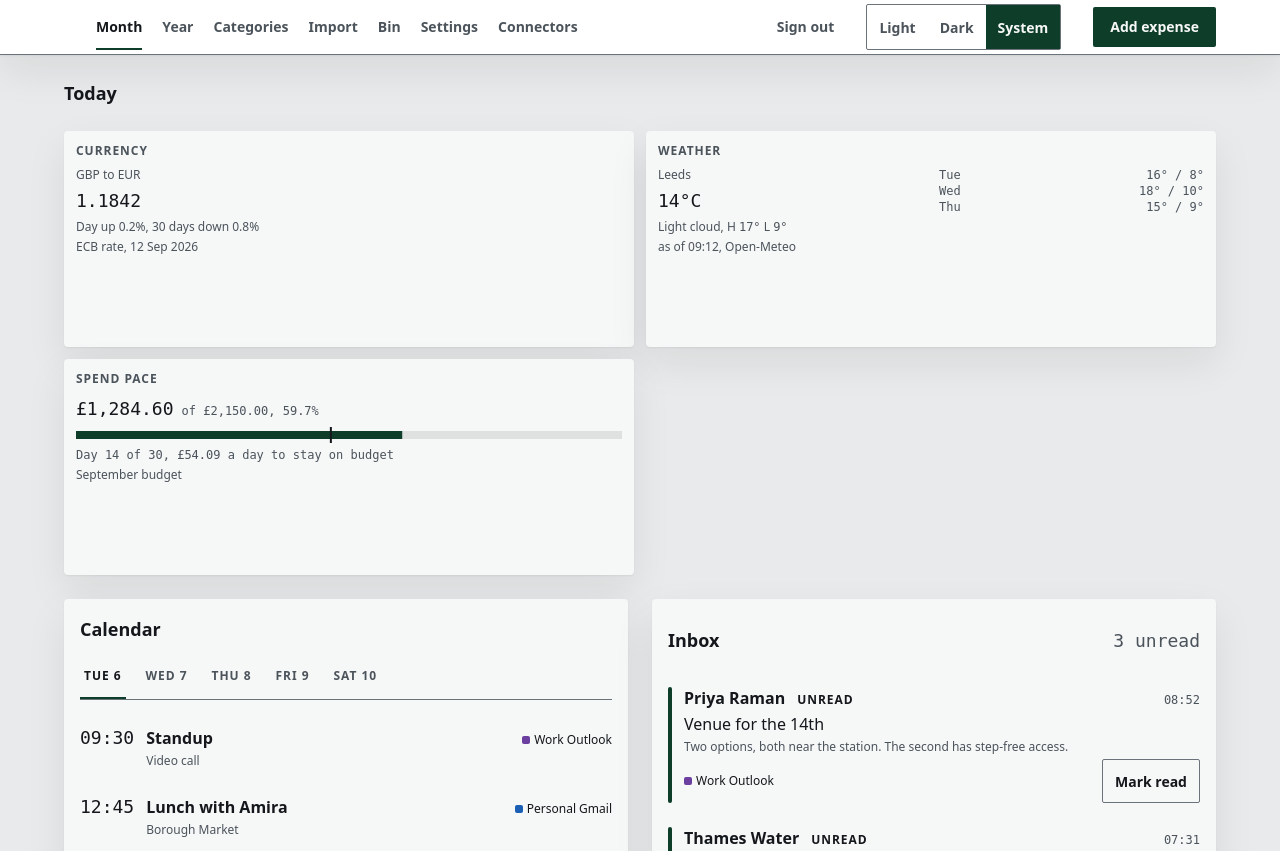
Test: inbox › mark read switches lamp and word, removes the button and flips the count once
Expected: the list item that starts with "Priya Raman" shows "Unread", [797,691,854,708]
Click the button "Mark read" below "08:52" at [1151, 781], box [1102,759,1200,803]
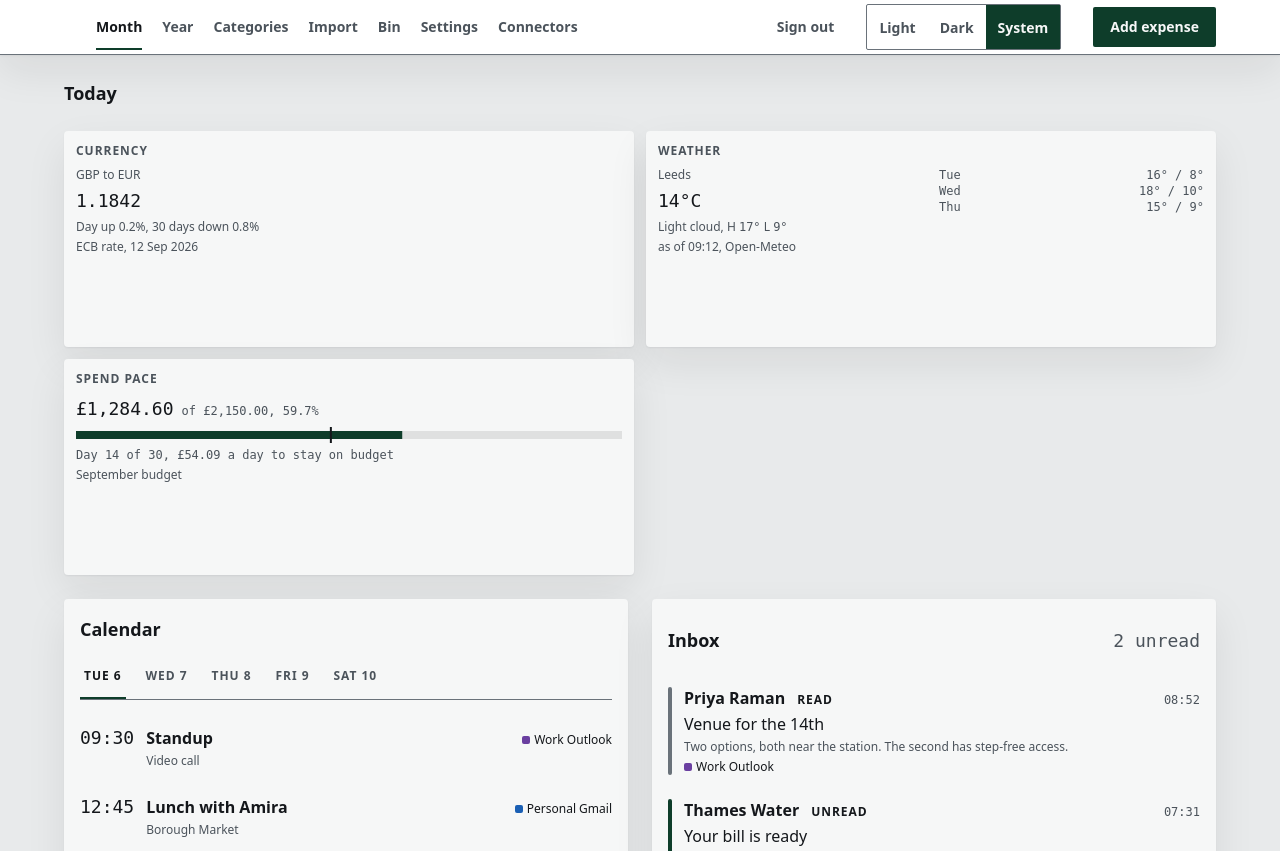
Now the text with class "td-word" reads "Read", box [797,691,833,708]
Now the text "unread" is gone
